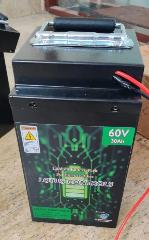electronic: (2, 11, 146, 230)
